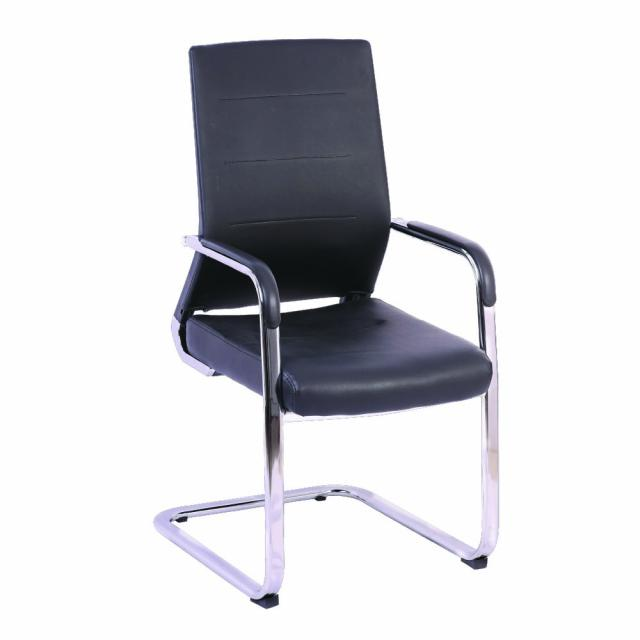chair: (152, 37, 500, 607)
